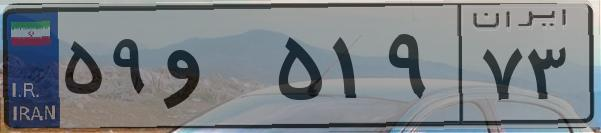1: (330, 28, 385, 110)
3: (525, 38, 570, 115)
5: (270, 28, 330, 110), (57, 26, 110, 100)
7: (475, 38, 525, 113)
9: (385, 28, 445, 110), (110, 28, 158, 98)
و: (158, 20, 270, 120)
